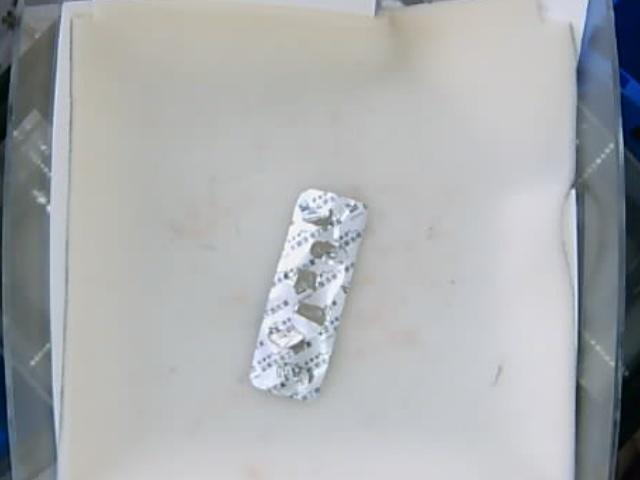Medicine: (250, 187, 370, 404)
